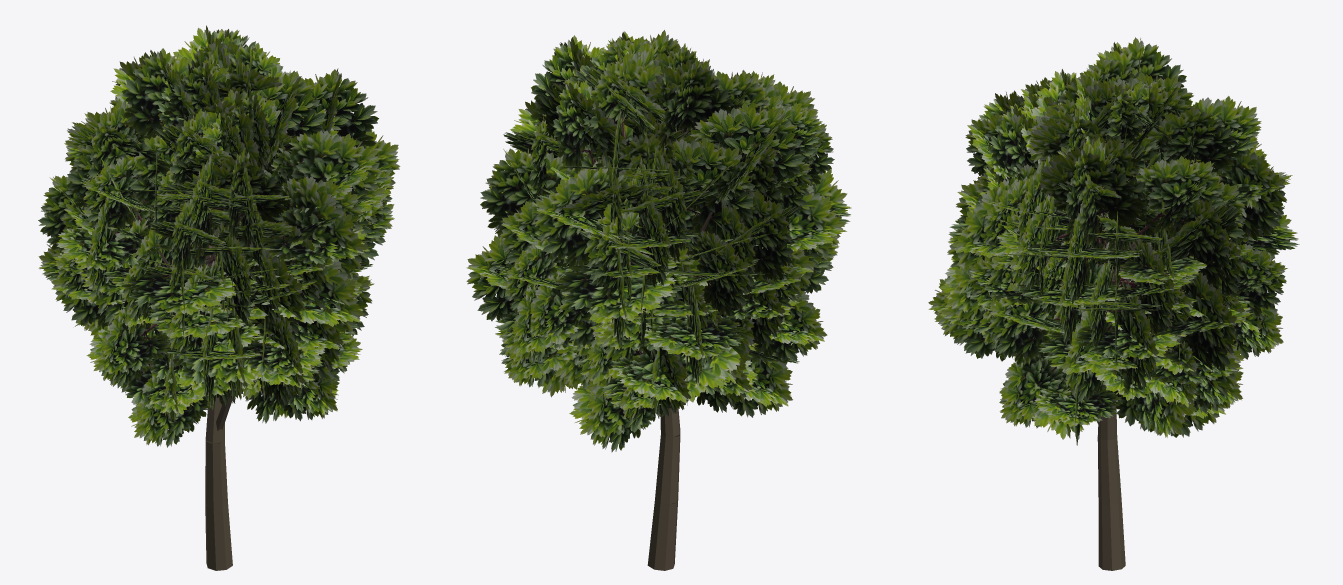
File: category_mesh_tree_0.glb
The picture shows the model from 3 angles, left to right: view 1: azimuth 30°, elevation 25°; view 2: azimuth 150°, elevation 25°; view 3: azimuth 270°, elevation 25°; orthographic projection. The views are drawn at different scales.
Parts seen in each view (by area): view 1: category_mesh_tree_0; view 2: category_mesh_tree_0; view 3: category_mesh_tree_0.
Part boxes in pixels (bbox=[...]): category_mesh_tree_0: bbox=[38, 25, 400, 570]; category_mesh_tree_0: bbox=[466, 30, 851, 570]; category_mesh_tree_0: bbox=[928, 37, 1299, 570].
Bounding box in the file's own units: 11.52 × 16.06 × 11.52.
Materials: 1 (1 with a texture image).
